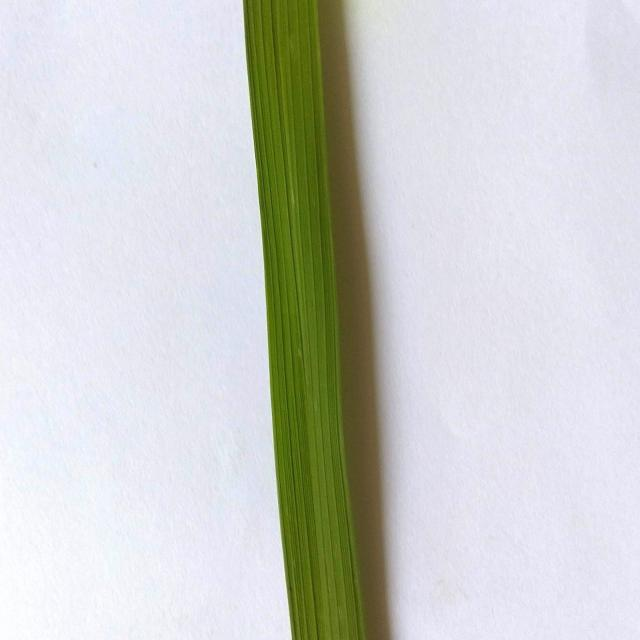healthy: (181, 1, 482, 640)
